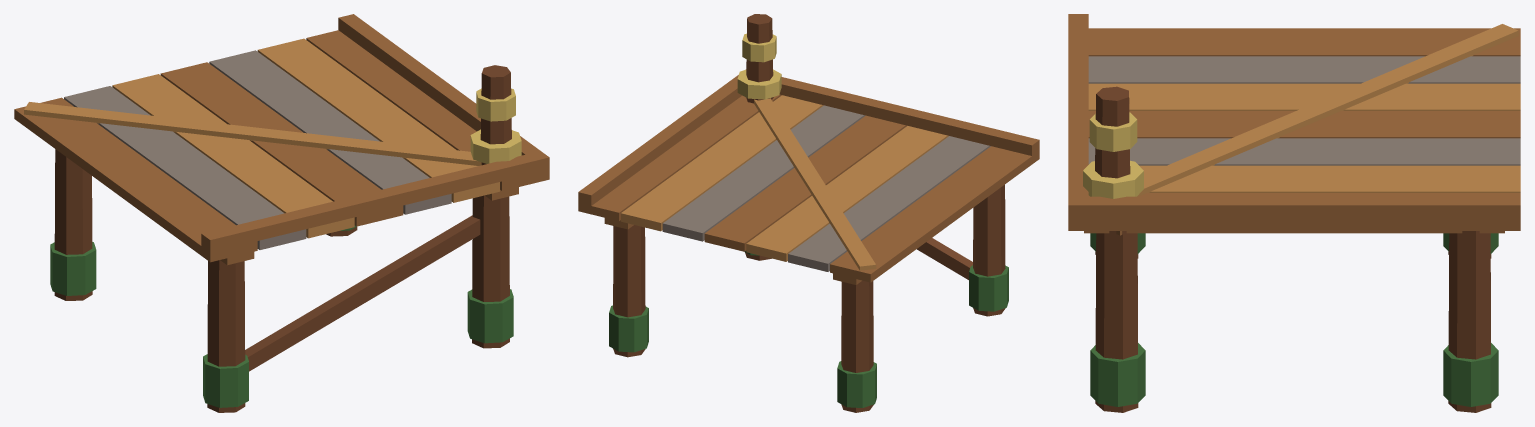
The model's file is dock_corner 2.glb.
3 renders of one model, left to right at view 1: azimuth 30°, elevation 25°; view 2: azimuth 150°, elevation 25°; view 3: azimuth 270°, elevation 25°, orthographic. The views are drawn at different scales.
Visible parts, largest first — view 1: Deck_0.003, Deck_3.002, Deck_1.003, Deck_4.002, Deck_2.003, Deck_5.002, Kerb_Y, Mitre_Trim, Pile_Brace_0.001, Deck_6.002, Kerb_X, Pile_0.001 (+8 smaller); view 2: Deck_0.003, Deck_3.002, Deck_4.002, Deck_2.003, Deck_5.002, Deck_1.003, Kerb_Y, Deck_6.002, Kerb_X, Mitre_Trim, Pile_1.001, Pile_3.001 (+8 smaller); view 3: Deck_0.003, Deck_1.003, Kerb_X, Deck_2.003, Deck_4.002, Deck_5.002, Deck_3.002, Mitre_Trim, Deck_6.002, Pile_3.001, Pile_2.001, Kerb_Y (+6 smaller).
Boxes of the visible parts, x1,y1,x2,y2 form: Deck_0.003: (14,97,257,262); Deck_3.002: (160,62,403,226); Deck_1.003: (64,86,306,249); Deck_4.002: (209,50,451,214); Deck_2.003: (112,74,354,238); Deck_5.002: (257,38,499,202); Kerb_Y: (201,151,548,252); Mitre_Trim: (24,102,481,165); Pile_Brace_0.001: (245,215,480,371); Deck_6.002: (306,30,549,190); Kerb_X: (338,14,549,173); Pile_0.001: (207,260,245,412); Deck_0.003: (830,146,1039,282); Deck_3.002: (704,115,907,251); Deck_4.002: (662,105,865,241); Deck_2.003: (746,126,948,261); Deck_5.002: (621,95,823,231); Deck_1.003: (788,136,990,271); Kerb_Y: (779,77,1039,155); Deck_6.002: (578,94,781,220); Kerb_X: (578,75,741,205); Mitre_Trim: (754,98,876,270); Pile_1.001: (841,280,873,412); Pile_3.001: (613,225,645,357); Deck_0.003: (1088,28,1520,56); Deck_1.003: (1088,56,1520,83); Kerb_X: (1068,196,1520,219); Deck_2.003: (1088,83,1520,110); Deck_4.002: (1088,138,1520,165); Deck_5.002: (1139,165,1520,192); Deck_3.002: (1088,111,1520,138); Mitre_Trim: (1137,24,1518,196); Deck_6.002: (1068,193,1520,230); Pile_3.001: (1448,231,1491,412); Pile_2.001: (1095,231,1138,412); Kerb_Y: (1068,14,1088,219).
Size of the model in its own units: 2 by 1.52 by 2.
